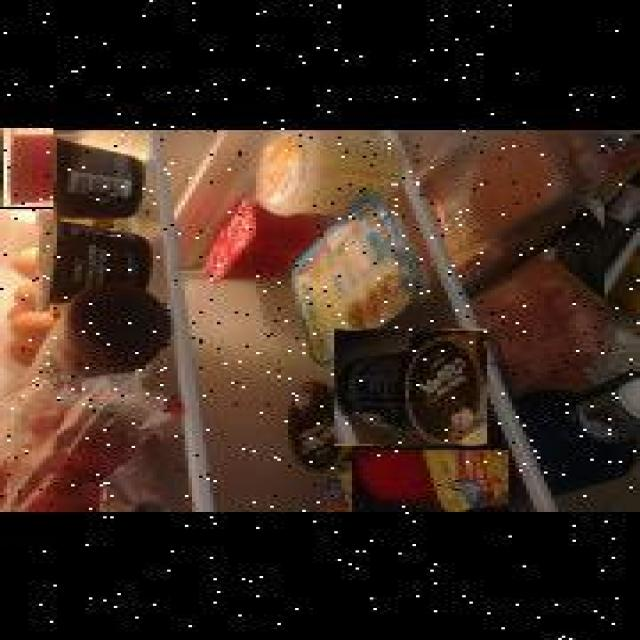egg: (7, 307, 57, 346)
yogurt: (334, 328, 487, 444), (352, 448, 508, 512), (0, 128, 53, 209)
